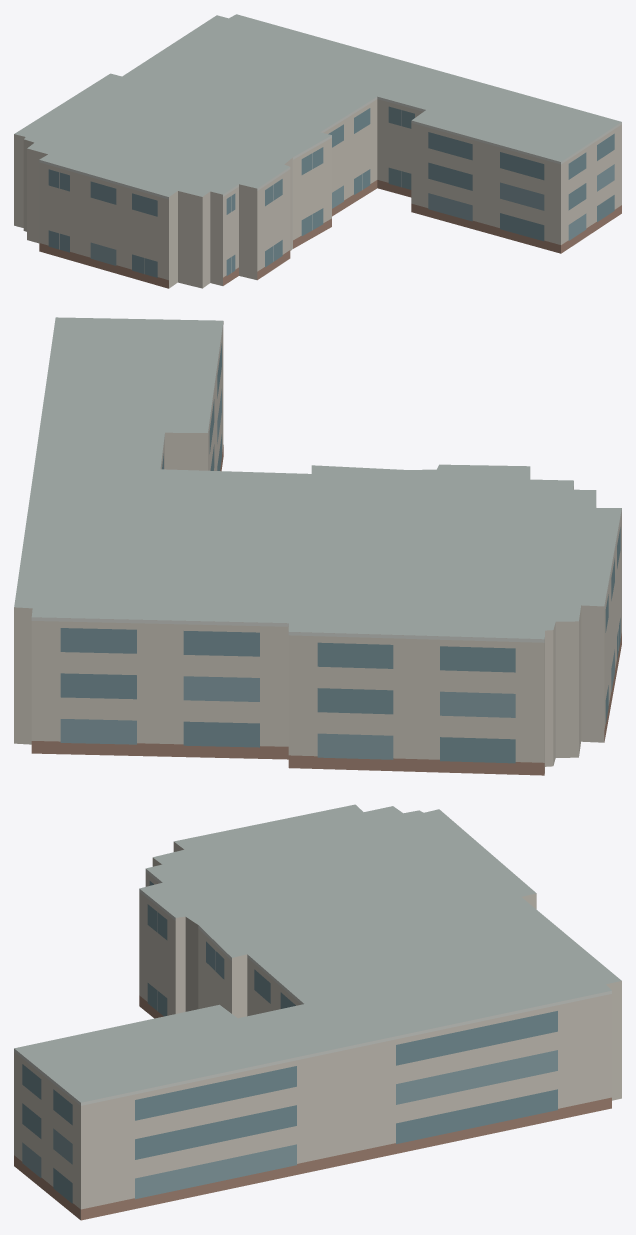
Rendered from survey-upis-32707515.glb.
3 renders of one model, top to bottom at view 1: azimuth 30°, elevation 25°; view 2: azimuth 150°, elevation 25°; view 3: azimuth 270°, elevation 25°, orthographic. The views are drawn at different scales.
Parts seen in each view (by area): view 1: survey-upis-32707515.tmp; view 2: survey-upis-32707515.tmp; view 3: survey-upis-32707515.tmp.
Part boxes in pixels (x1,y1,x2,y2): survey-upis-32707515.tmp: [14, 14, 621, 288]; survey-upis-32707515.tmp: [14, 317, 621, 775]; survey-upis-32707515.tmp: [14, 804, 621, 1220].
Size of the model in its own units: 49.73 by 9.15 by 42.83.
